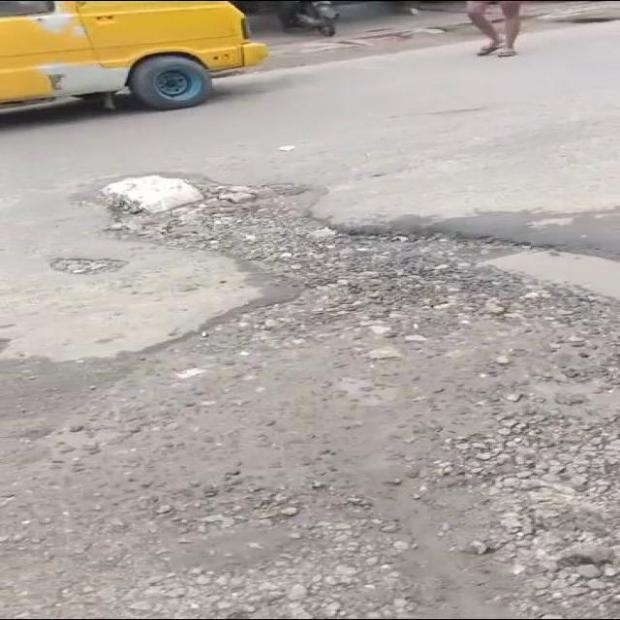lubang: (49, 258, 127, 275)
